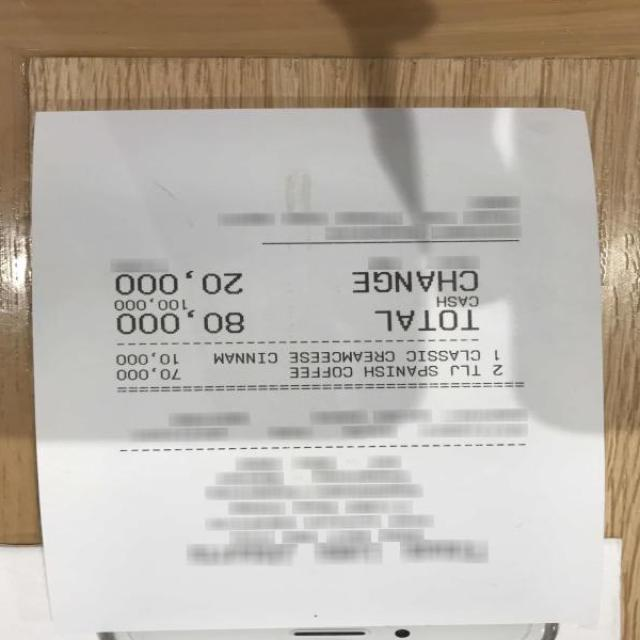kertas: (29, 101, 607, 633)
